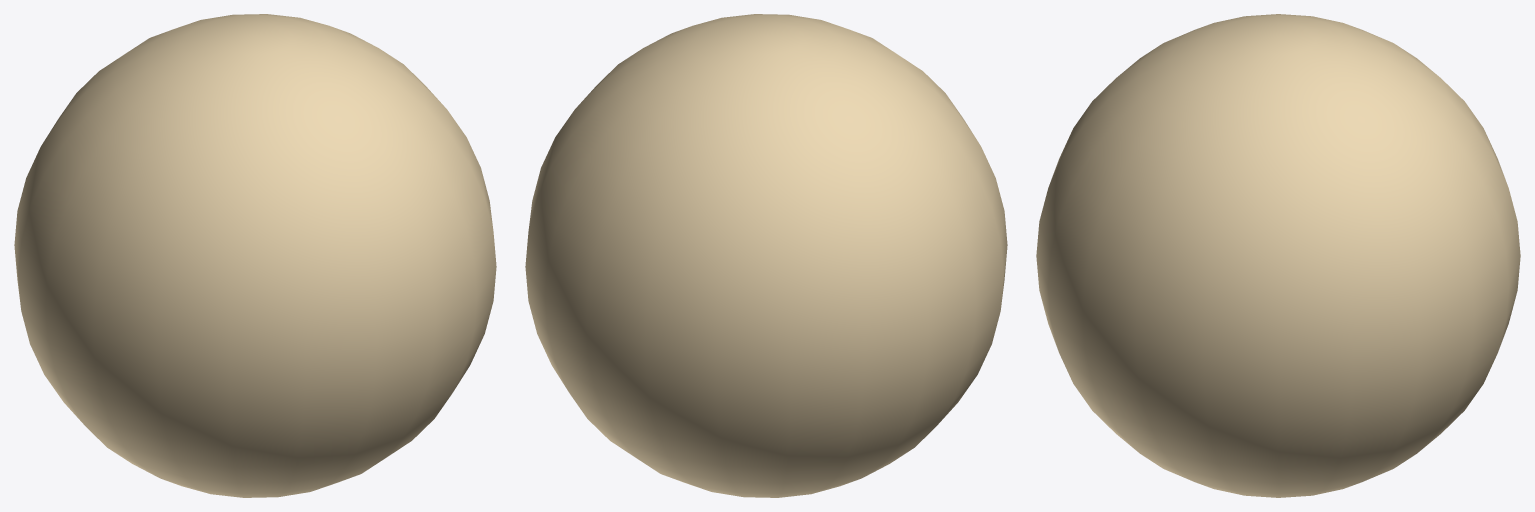
File: Shield.fbx
3 views of the same model, side by side, from view 1: azimuth 30°, elevation 25°; view 2: azimuth 150°, elevation 25°; view 3: azimuth 270°, elevation 25° (orthographic).
Visible parts, largest first — view 1: pSphere1; view 2: pSphere1; view 3: pSphere1.
Boxes of the visible parts, x1,y1,x2,y2 form: pSphere1: (14, 14, 496, 497); pSphere1: (525, 14, 1007, 497); pSphere1: (1036, 14, 1520, 497).
Size of the model in its own units: 11.86 by 11.86 by 11.86.
